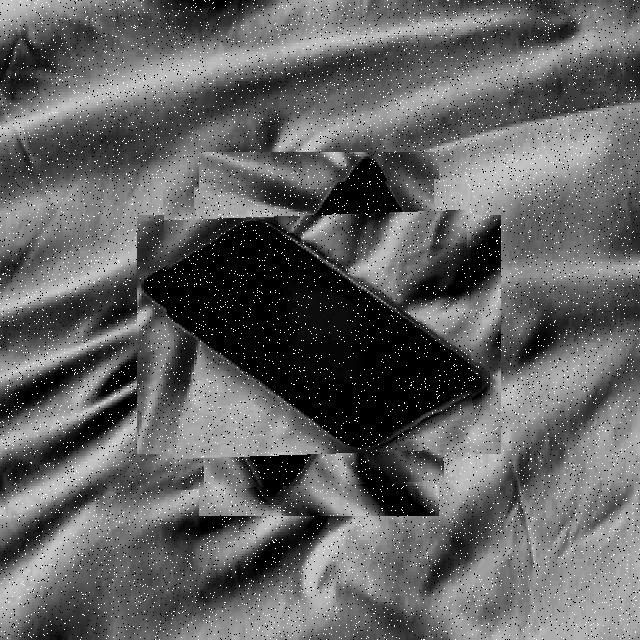Phone: (165, 180, 472, 488)
